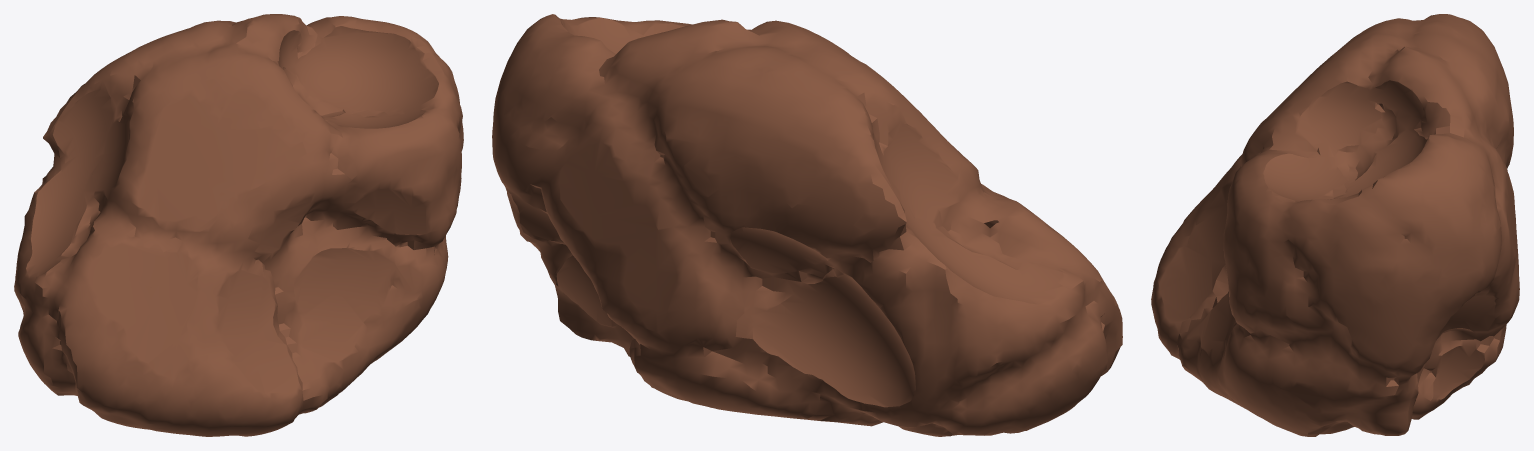
File: Asteroid 1 DMGfbx.fbx
3 renders of one model, left to right at view 1: azimuth 30°, elevation 25°; view 2: azimuth 150°, elevation 25°; view 3: azimuth 270°, elevation 25°, orthographic. The views are drawn at different scales.
Visible parts, largest first — view 1: rock.015_dmg; view 2: rock.015_dmg; view 3: rock.015_dmg.
Part boxes in pixels (bbox=[...]): rock.015_dmg: bbox=[14, 14, 463, 436]; rock.015_dmg: bbox=[492, 14, 1122, 436]; rock.015_dmg: bbox=[1151, 14, 1519, 436].
Bounding box in the file's own units: 155 × 111 × 99.59.
